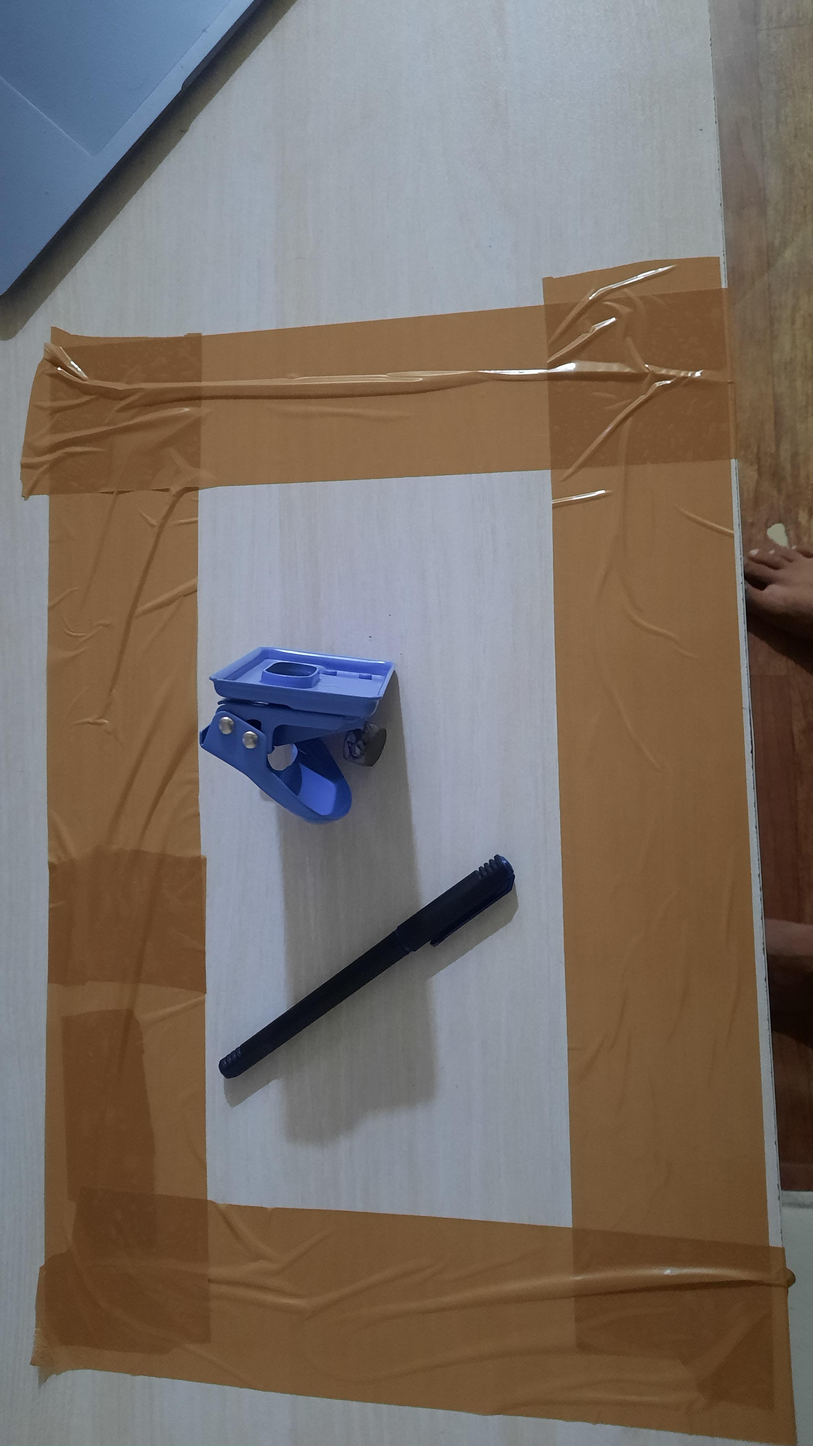Pen: (218, 855, 516, 1079)
Punch: (200, 646, 396, 824)
